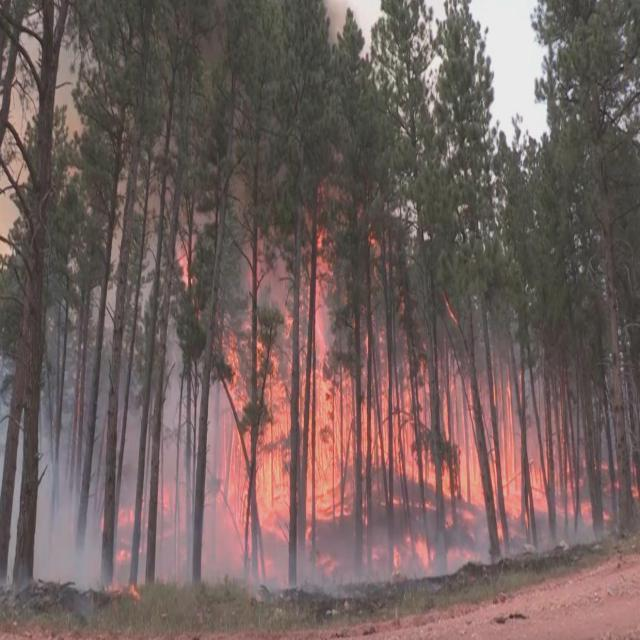Fire: (104, 184, 640, 589)
Smoke: (0, 390, 98, 591)
